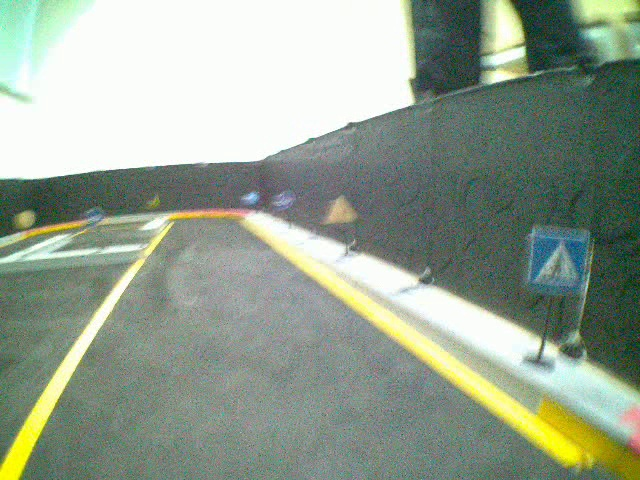crossing: (528, 226, 593, 295)
